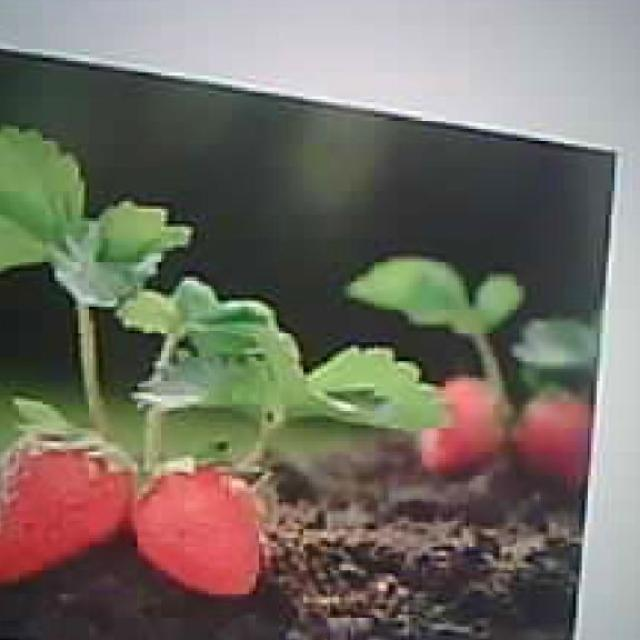Healthy Fruit: (0, 427, 134, 580), (132, 466, 262, 599)
